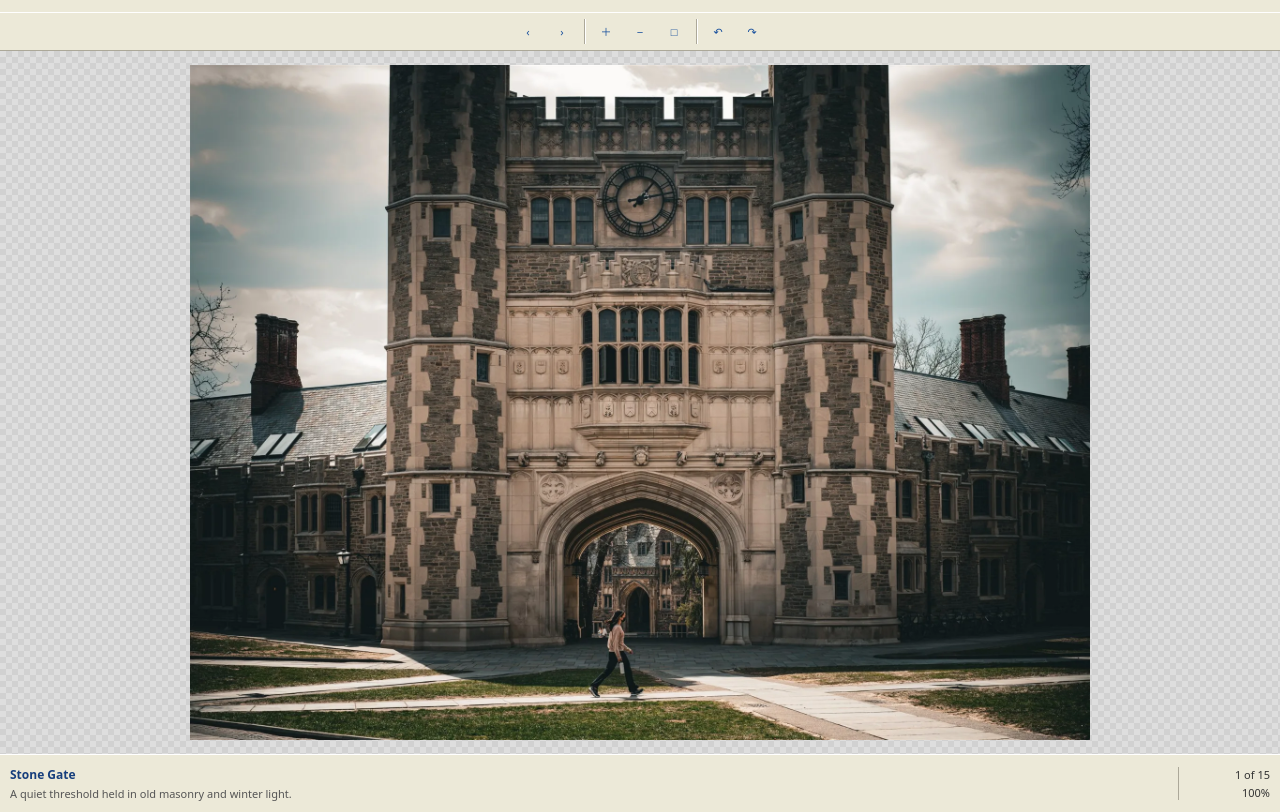
Scenario: PictureViewer › returns to fitted 100% after zooming
Click the button named "Zoom in" at (606, 31), box [590, 16, 622, 46]
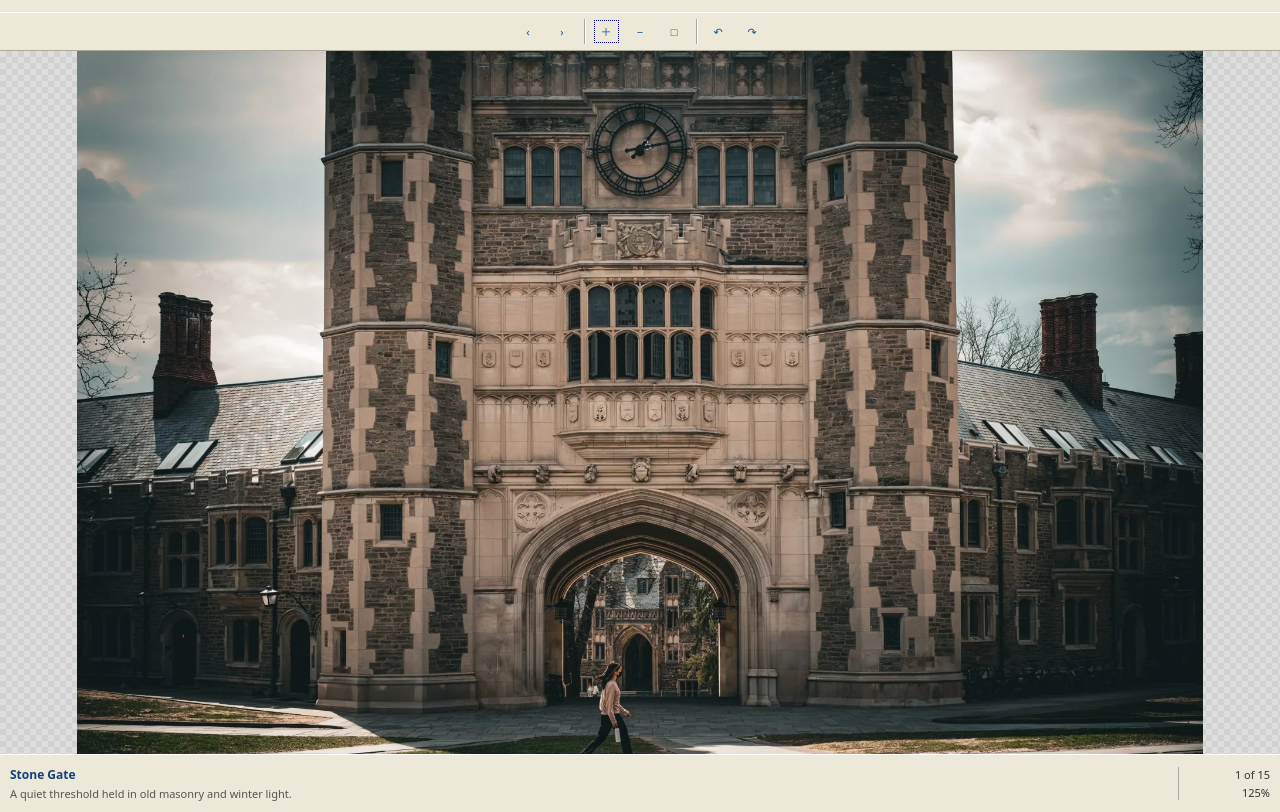
Click the button named "Fit to window" at (674, 31), box [658, 16, 690, 46]
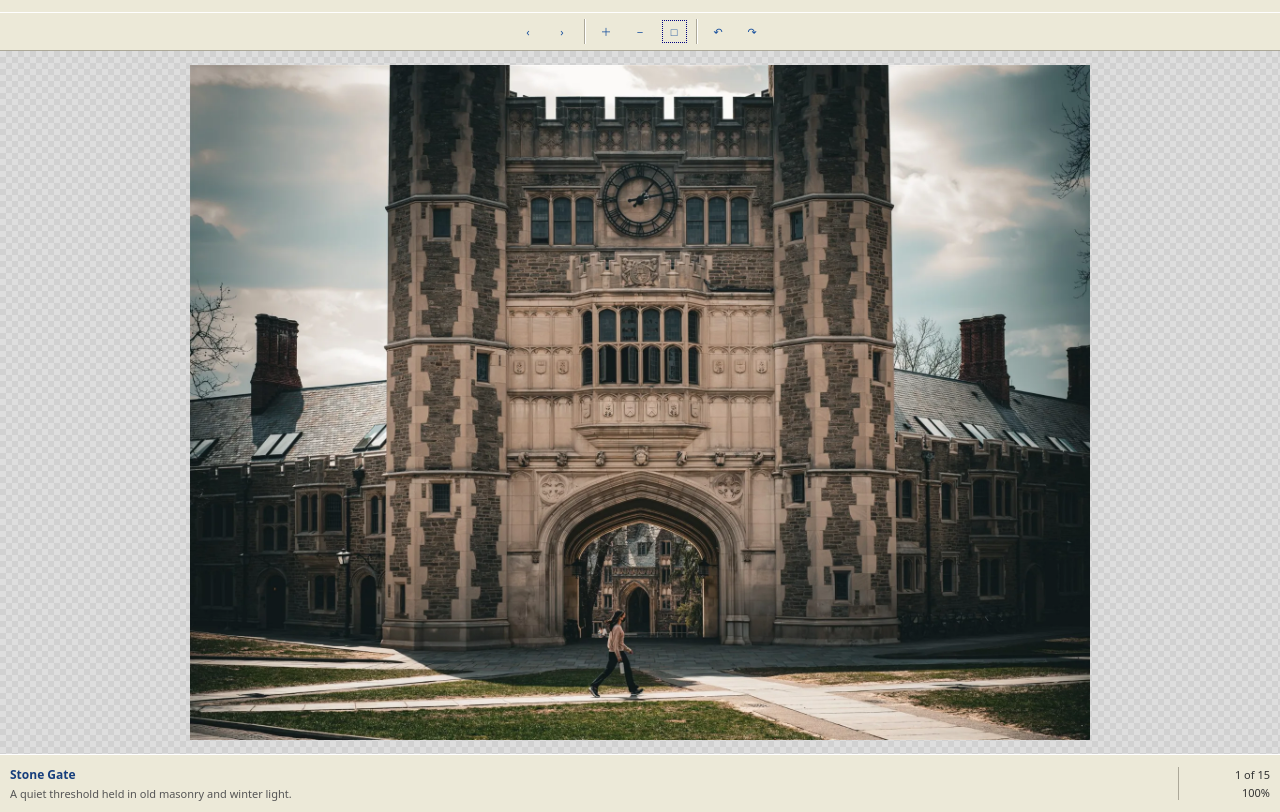
Expected: the text "100%" is shown, [1242, 785, 1270, 800]
